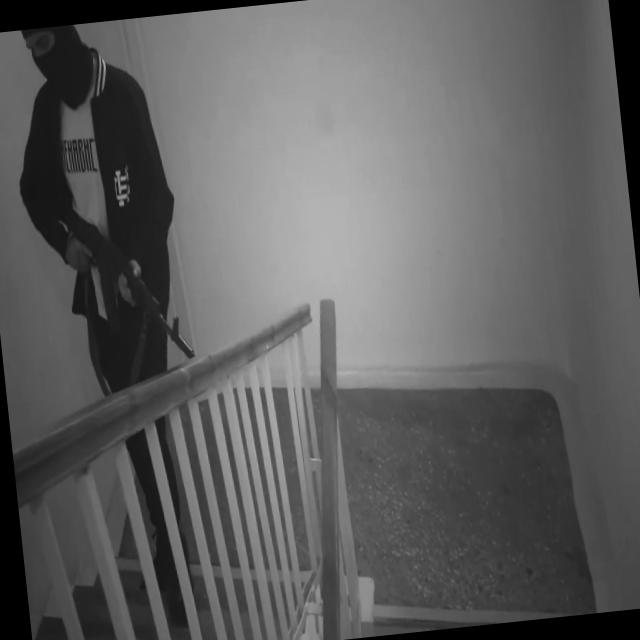gun: (41, 166, 198, 377)
person with a gun: (1, 16, 198, 403)
